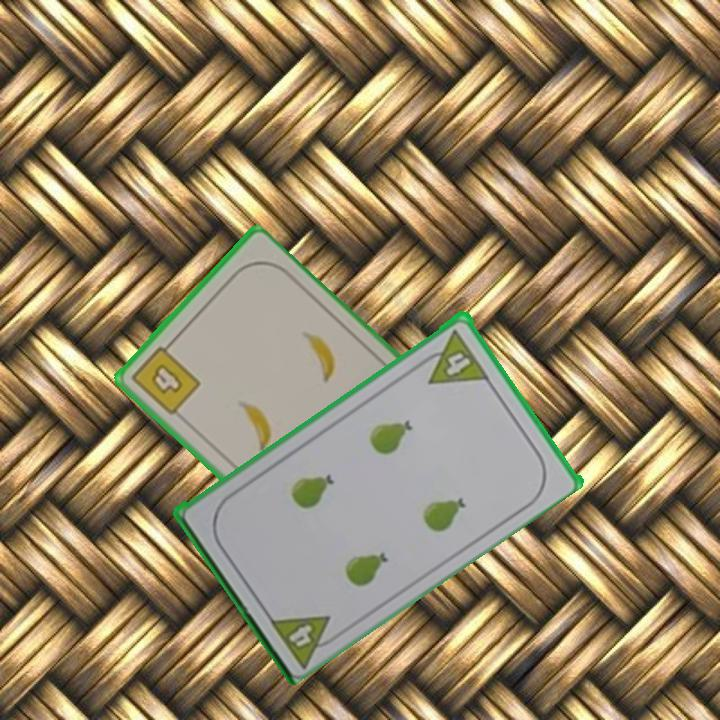4b: (127, 336, 203, 418)
4p: (414, 325, 491, 387), (265, 610, 345, 669)
